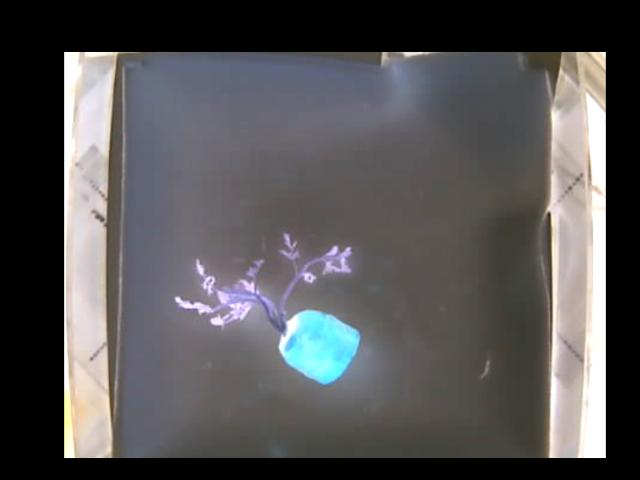Carrot: (175, 233, 358, 385)
